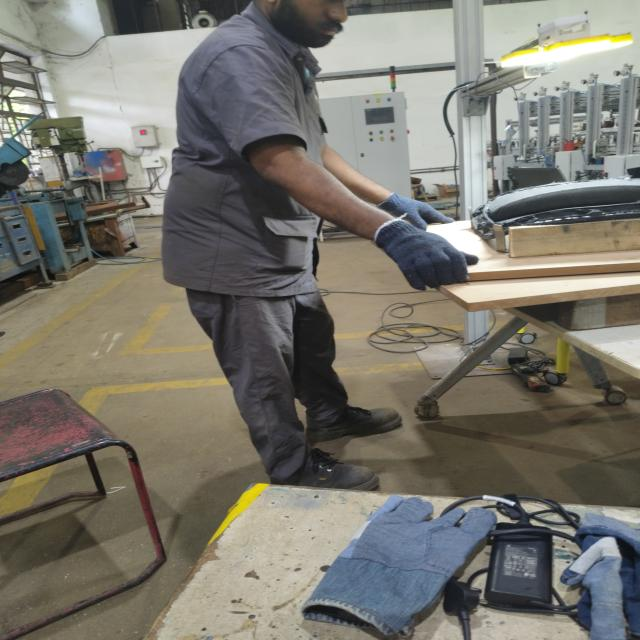Gloves-Detection: (377, 218, 476, 288), (374, 190, 444, 222)
